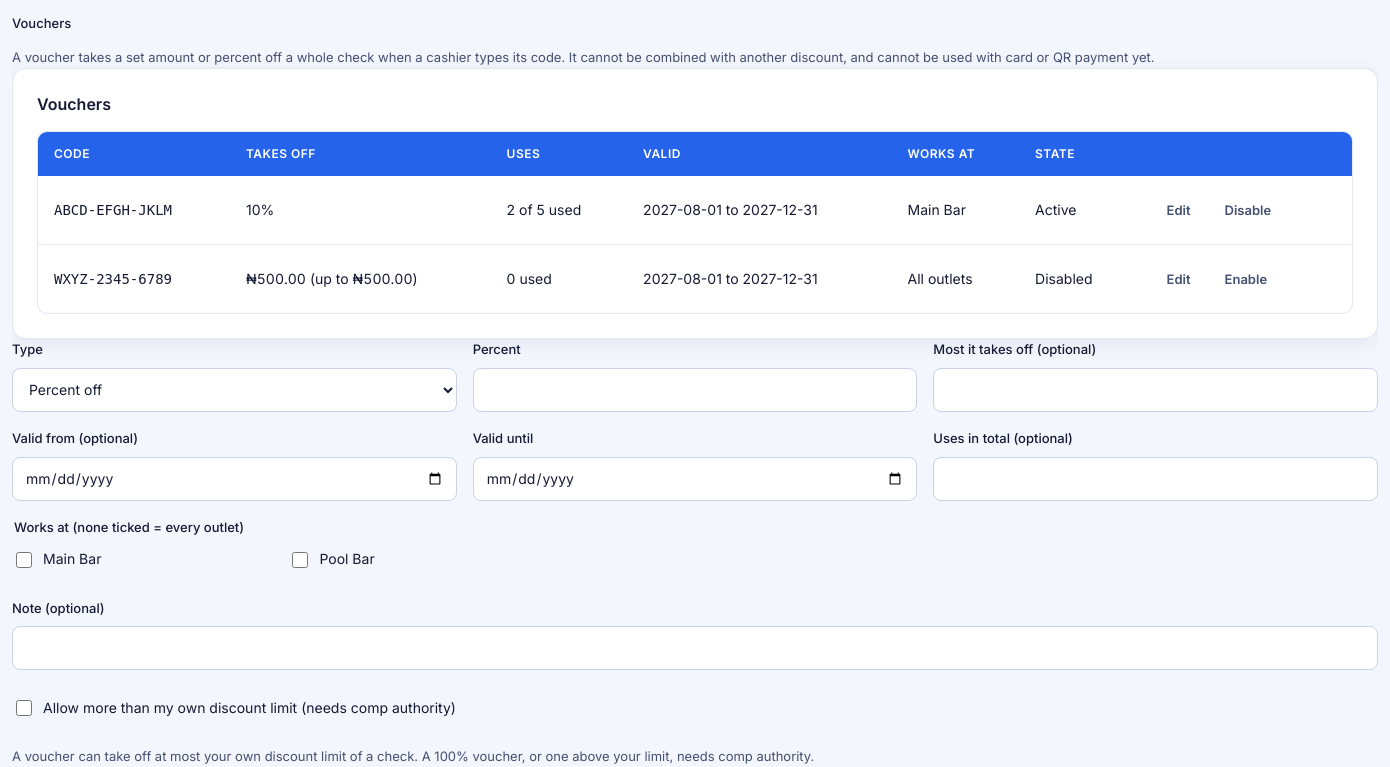
<VouchersSection> › edit › opens the create fields pre-filled, with the code shown and Save disabled until something changes
The image size is (1390, 767).
Click the button "Edit" in the row of "ABCD-EFGH-JKLM" at (1179, 210), box [1150, 188, 1208, 232]
(page scrolled)
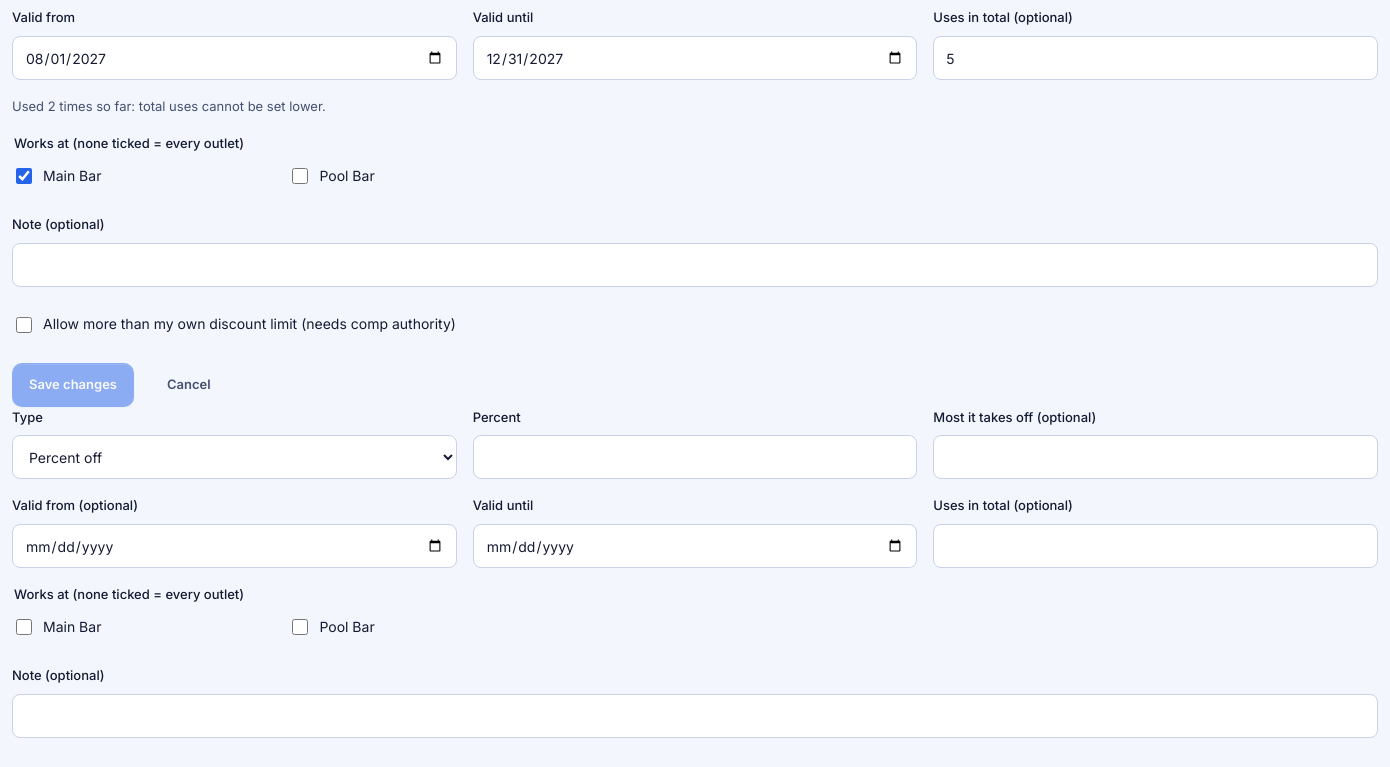
Expected: the 1st date field labelled "Valid until" holds "2027-12-31", [473, 36, 917, 80]
Expected: the checkbox labelled "Main Bar" below "time" is checked, [16, 168, 32, 184]
Expected: the button "Save changes" is disabled, [12, 362, 134, 406]
